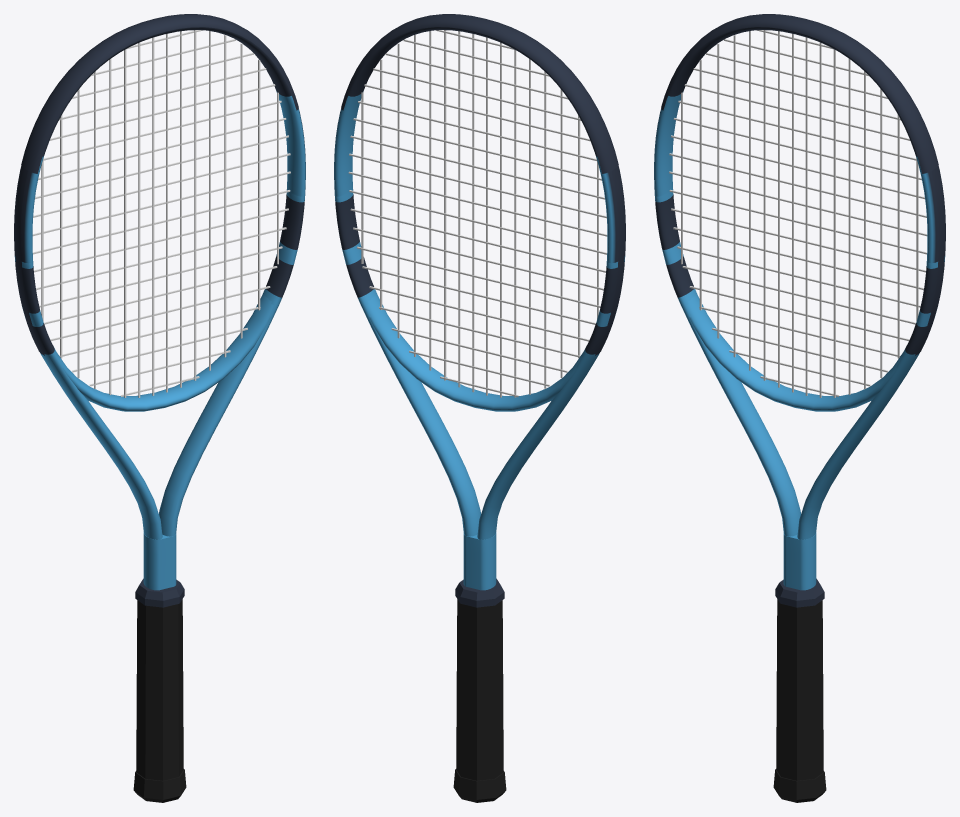
Rendered from babolat-pure-drive-98-2025.glb.
3 renders of one model, left to right at view 1: azimuth 30°, elevation 25°; view 2: azimuth 150°, elevation 25°; view 3: azimuth 330°, elevation 25°, orthographic.
Visible parts, largest first — view 1: frame, strings_mains, strings_crosses, grip, bumper, grommets, butt_cap, collar; view 2: frame, strings_mains, strings_crosses, grip, bumper, grommets, butt_cap, collar; view 3: frame, strings_mains, strings_crosses, grip, bumper, grommets, butt_cap, collar.
Boxes of the visible parts, x1,y1,x2,y2 form: frame: [14, 27, 305, 590]; strings_mains: [41, 30, 278, 397]; strings_crosses: [32, 30, 290, 396]; grip: [136, 599, 183, 780]; bumper: [21, 14, 298, 173]; grommets: [14, 167, 44, 355]; butt_cap: [133, 769, 186, 802]; collar: [135, 578, 184, 607]; frame: [334, 27, 625, 590]; strings_mains: [361, 30, 598, 397]; strings_crosses: [348, 30, 607, 397]; grip: [456, 599, 503, 780]; bumper: [341, 14, 618, 173]; grommets: [595, 167, 625, 355]; butt_cap: [453, 769, 506, 802]; collar: [455, 578, 504, 607]; frame: [654, 27, 945, 590]; strings_mains: [681, 30, 918, 397]; strings_crosses: [669, 30, 927, 396]; grip: [776, 599, 823, 780]; bumper: [661, 14, 938, 173]; grommets: [915, 167, 945, 355]; butt_cap: [773, 769, 826, 802]; collar: [775, 578, 824, 607].
Bounding box in the file's own units: 0.2653 × 0.6861 × 0.0396.
